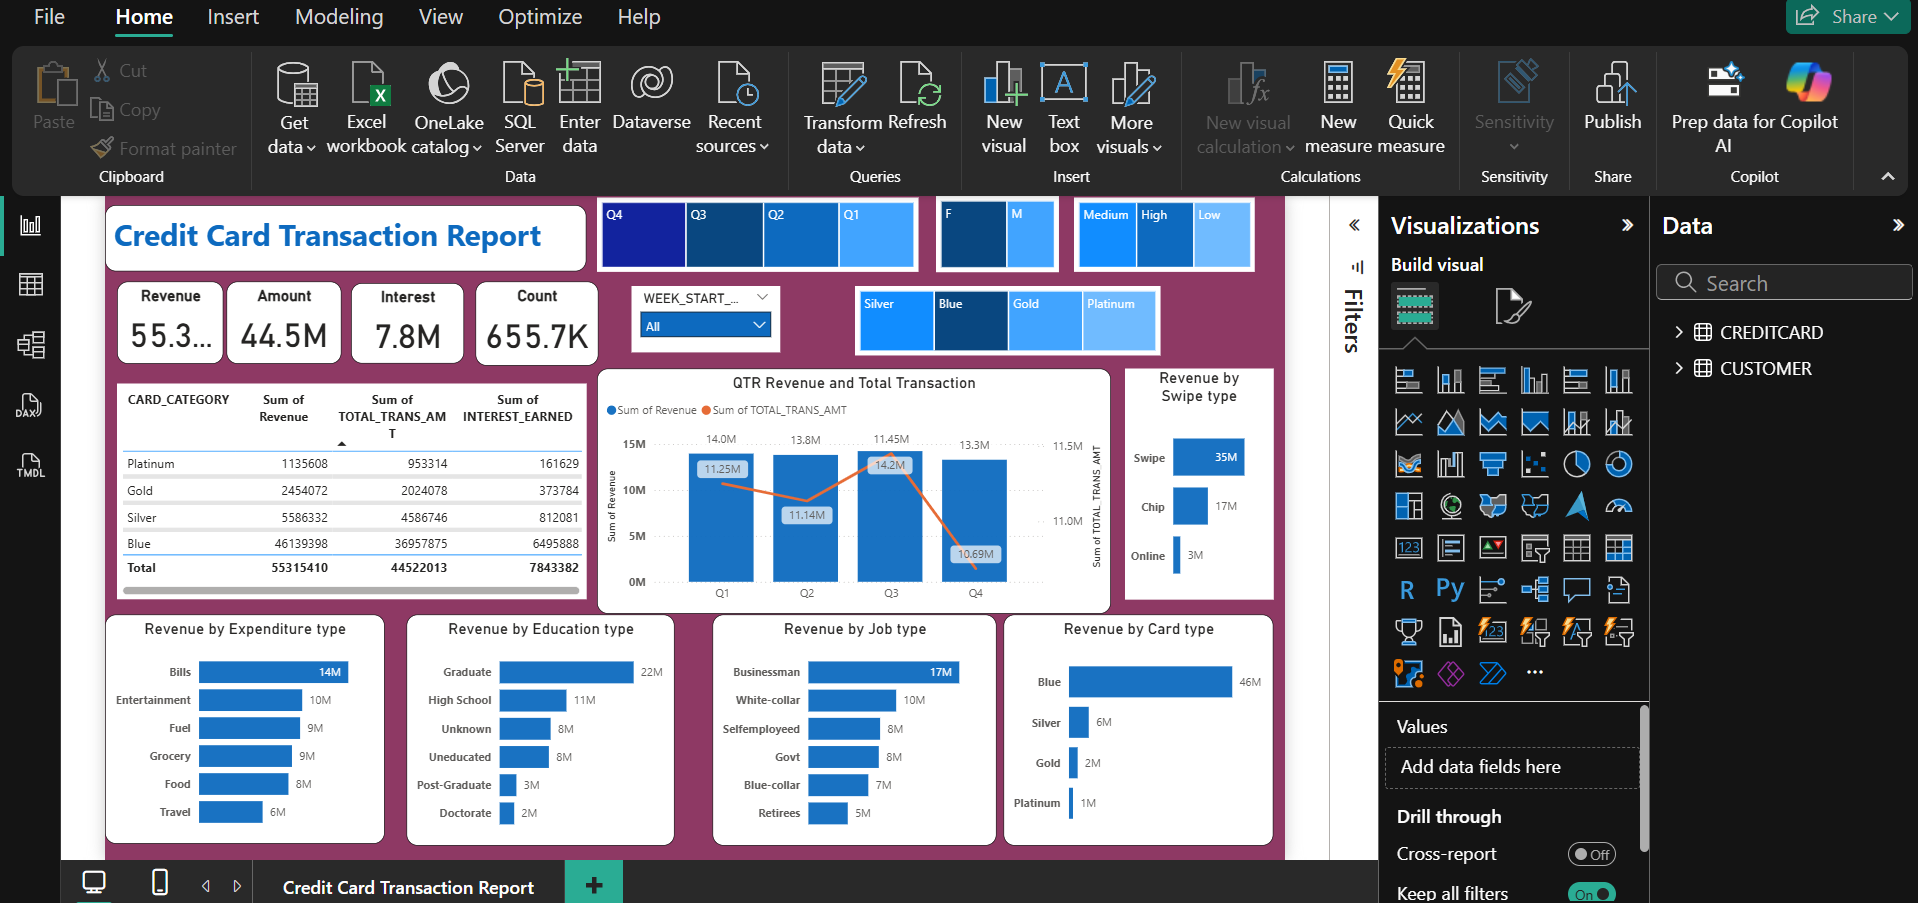

What the dashboard file says about the page in this screenshot:
{"tool":"powerbi","page":{"name":"Credit Card Transaction Report","canvas":[1280,720],"ordinal":0},"visuals":[{"type":"textbox","box":[0,10.5,522.1,71.8],"z":0},{"type":"lineStackedColumnComboChart","title":"QTR Revenue and Total Transaction","fields":{"Category":["CREDITCARD.QTR"],"Y":["Sum(CREDITCARD.Revenue)"],"Y2":["Sum(CREDITCARD.TOTAL_TRANS_AMT)"]},"box":[534.3,187.4,557.1,266.3],"z":1000},{"type":"barChart","title":"Revenue by Expenditure type","fields":{"Y":["Sum(CREDITCARD.Revenue)"],"Category":["CREDITCARD.EXP_TYPE"]},"box":[0,453.7,303.1,248.8],"z":2000},{"type":"barChart","title":"Revenue by Education type","fields":{"Y":["Sum(CREDITCARD.Revenue)"],"Category":["CUSTOMER.EDUCATION_LEVEL"]},"box":[327.6,453.7,290.8,250.5],"z":3000},{"type":"barChart","title":"Revenue by Job type","fields":{"Y":["Sum(CREDITCARD.Revenue)"],"Category":["CUSTOMER.CUSTOMER_JOB"]},"box":[658.7,453.7,308.3,250.5],"z":4000},{"type":"barChart","title":"Revenue by Card type","fields":{"Y":["Sum(CREDITCARD.Revenue)"],"Category":["CREDITCARD.CARD_CATEGORY"]},"box":[974,453.7,292.6,250.5],"z":5000},{"type":"barChart","title":"Revenue by Swipe type","fields":{"Y":["Sum(CREDITCARD.Revenue)"],"Category":["CREDITCARD.USE_CHIP"]},"box":[1105.4,187.4,161.2,250.5],"z":6000},{"type":"tableEx","fields":{"Values":["CREDITCARD.CARD_CATEGORY","Sum(CREDITCARD.Revenue)","Sum(CREDITCARD.TOTAL_TRANS_AMT)","Sum(CREDITCARD.INTEREST_EARNED)"]},"box":[13,203.3,509.1,234.2],"z":7000},{"type":"card","title":"Revenue","fields":{"Values":["Sum(CREDITCARD.Revenue)"]},"box":[12.3,92.8,115.6,89.3],"z":8000},{"type":"card","title":"Amount","fields":{"Values":["Sum(CREDITCARD.TOTAL_TRANS_AMT)"]},"box":[131.4,92.8,124.4,89.3],"z":9000},{"type":"card","title":"Interest","fields":{"Values":["Sum(CREDITCARD.INTEREST_EARNED)"]},"box":[266.3,94.6,122.6,87.6],"z":10000},{"type":"card","title":"Count","fields":{"Values":["Sum(CREDITCARD.TOTAL_TRANS_VOL)"]},"box":[401.2,92.8,133.1,91.1],"z":11000},{"type":"slicer","fields":{"Values":["CREDITCARD.WEEK_START_DATE"]},"box":[571.1,98.1,161.2,71.8],"z":12000},{"type":"treemap","fields":{"Group":["CREDITCARD.QTR"],"Values":["Avg(CREDITCARD.CLIENT_NUM)"]},"box":[534.3,1.8,348.6,80.6],"z":13000},{"type":"treemap","fields":{"Group":["CUSTOMER.GENDER"],"Values":["CountNonNull(CUSTOMER.CLIENT_NUM)"]},"box":[900.5,0,133.1,82.3],"z":14000},{"type":"treemap","fields":{"Group":["CREDITCARD.CARD_CATEGORY"],"Values":["Avg(CREDITCARD.CLIENT_NUM)"]},"box":[812.9,98.1,331.1,75.3],"z":15000},{"type":"treemap","fields":{"Values":["Avg(CUSTOMER.CLIENT_NUM)"],"Group":["CUSTOMER.IncomeGroup"]},"box":[1051.1,1.8,196.2,80.6],"z":16000}]}

Visuals, with their boxes on the page's 1280x720 design canvas (x1, y1, x2, y2). These are canvas units, not pixel positions in the 1918x903 screenshot, which may show the page scaled, cropped or inside an application window:
textbox: select_region(0, 10, 522, 82)
"QTR Revenue and Total Transaction" lineStackedColumnComboChart: select_region(534, 187, 1091, 454)
"Revenue by Expenditure type" barChart: select_region(0, 454, 303, 702)
"Revenue by Education type" barChart: select_region(328, 454, 618, 704)
"Revenue by Job type" barChart: select_region(659, 454, 967, 704)
"Revenue by Card type" barChart: select_region(974, 454, 1267, 704)
"Revenue by Swipe type" barChart: select_region(1105, 187, 1267, 438)
tableEx - CREDITCARD.CARD_CATEGORY x Sum(CREDITCARD.Revenue): select_region(13, 203, 522, 438)
"Revenue" card: select_region(12, 93, 128, 182)
"Amount" card: select_region(131, 93, 256, 182)
"Interest" card: select_region(266, 95, 389, 182)
"Count" card: select_region(401, 93, 534, 184)
slicer - CREDITCARD.WEEK_START_DATE: select_region(571, 98, 732, 170)
treemap - CREDITCARD.QTR x Avg(CREDITCARD.CLIENT_NUM): select_region(534, 2, 883, 82)
treemap - CUSTOMER.GENDER x CountNonNull(CUSTOMER.CLIENT_NUM): select_region(900, 0, 1034, 82)
treemap - CREDITCARD.CARD_CATEGORY x Avg(CREDITCARD.CLIENT_NUM): select_region(813, 98, 1144, 173)
treemap - Avg(CUSTOMER.CLIENT_NUM) x CUSTOMER.IncomeGroup: select_region(1051, 2, 1247, 82)
